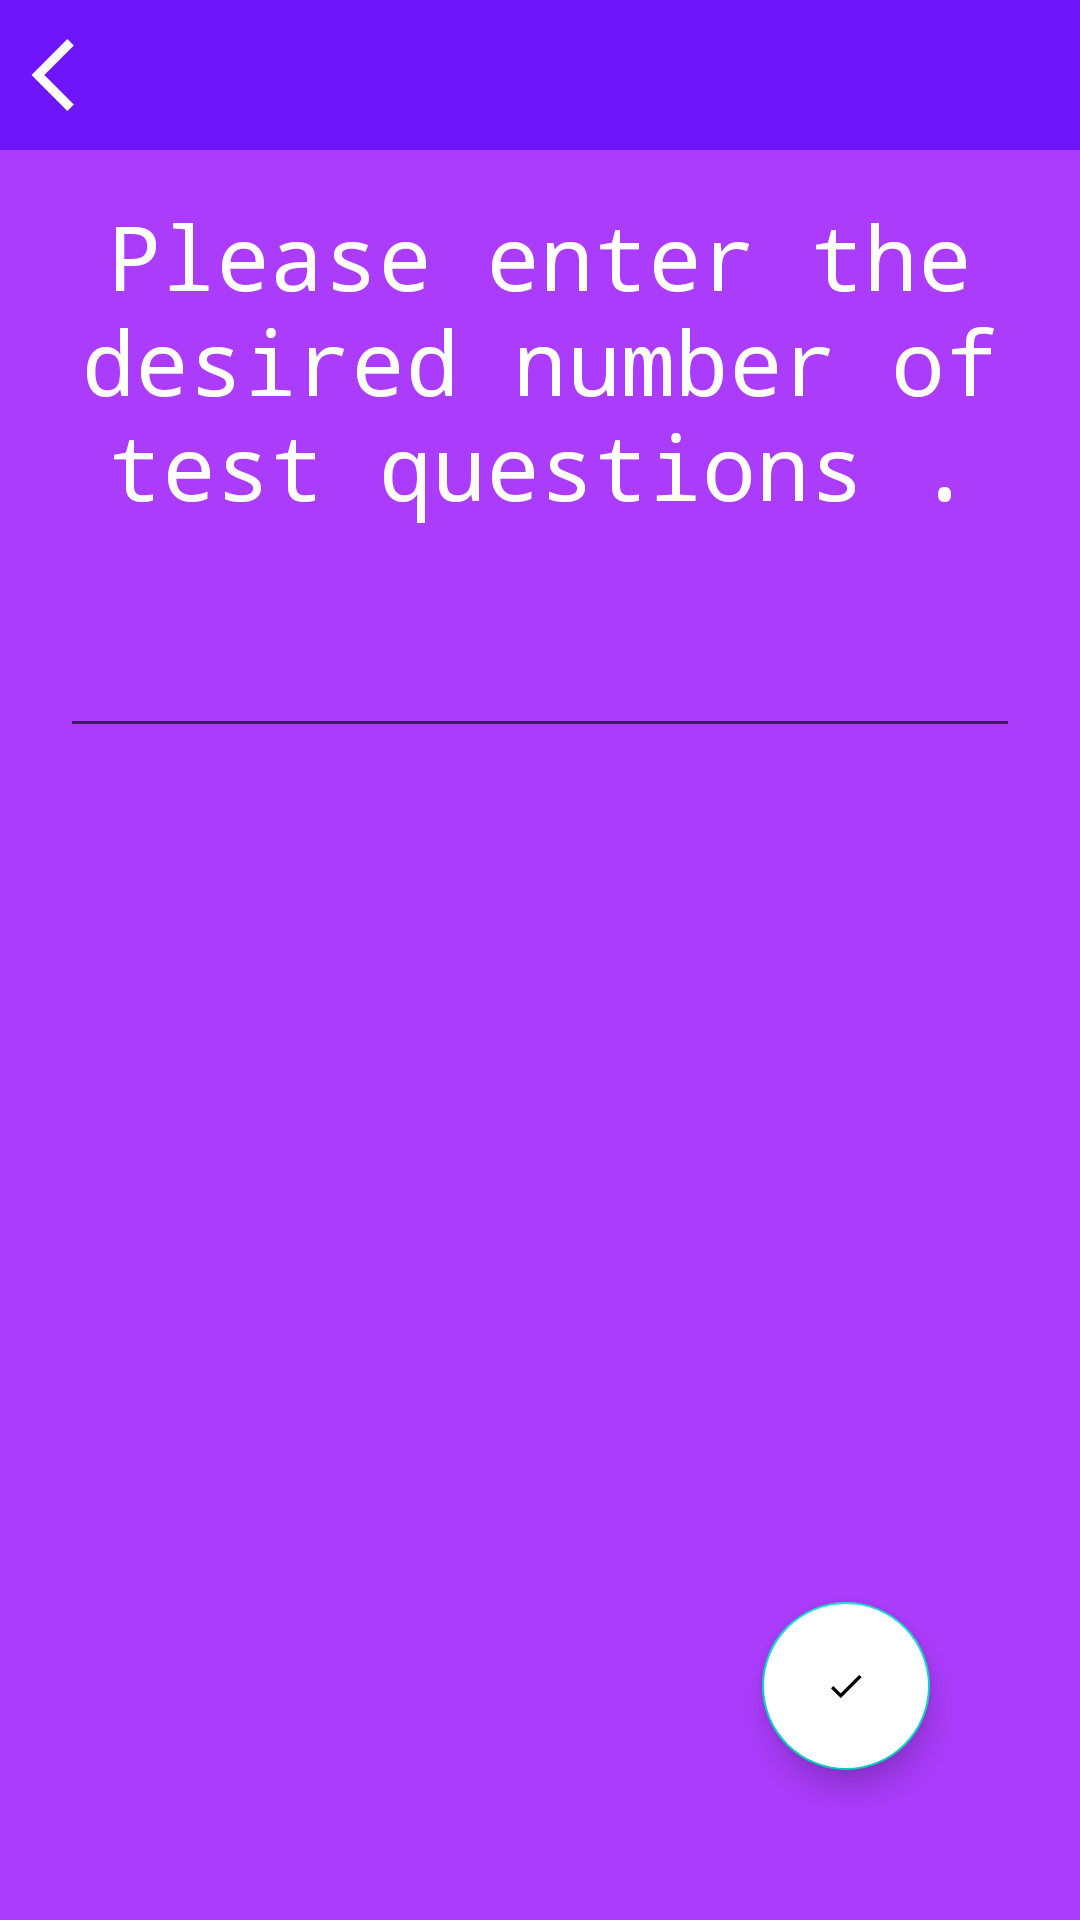

Where icons sit on this 1080px x 1920px app screen, as (x1,y1,x2,y2):
done: (762,1602,930,1770)
